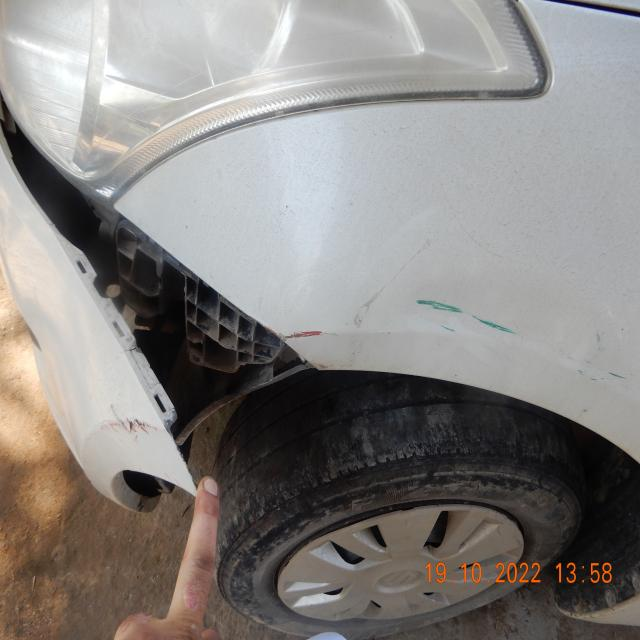damage: (2, 91, 295, 440), (416, 294, 626, 387), (284, 323, 323, 346)
